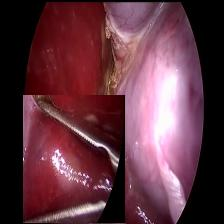Grasper: (22, 94, 124, 222)
